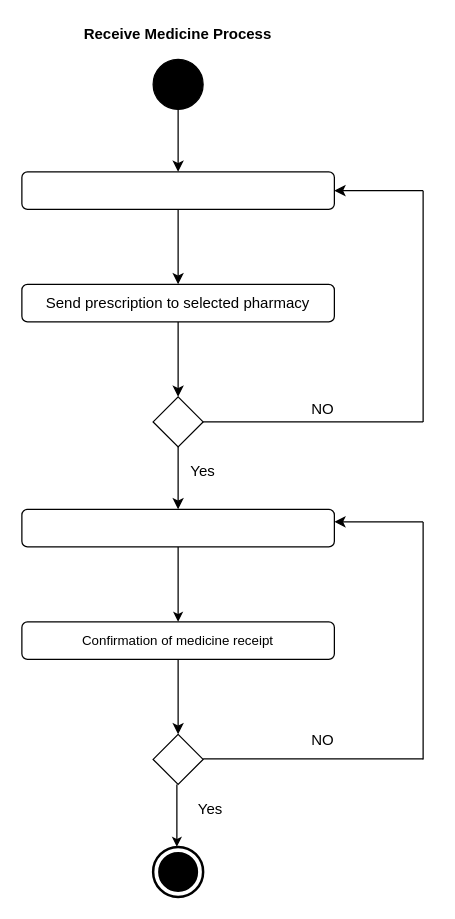
Some shapes in this 455 by 919 pixel diagram are drawn without their labels. Here are the shapes that lost their labels. From the top down, the box of each, then its label:
(21, 171, 334, 209): Show Pharmacies List
(21, 508, 334, 547): Confirmation of medicine sending
